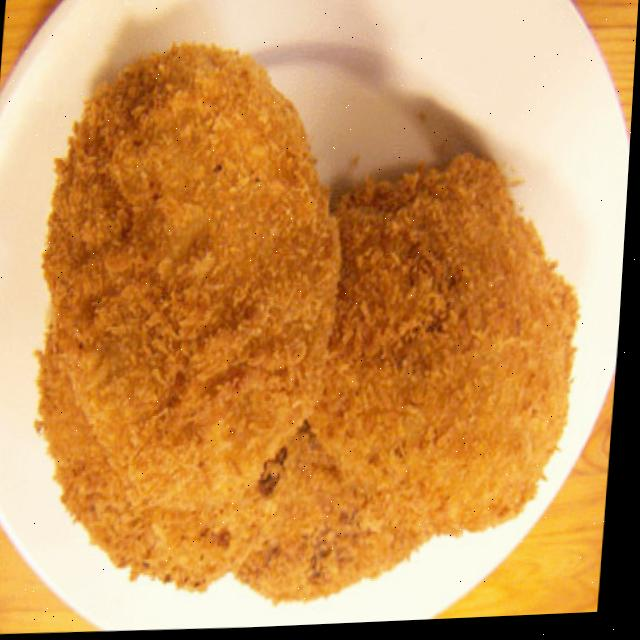炸货点心: (19, 29, 609, 606)
